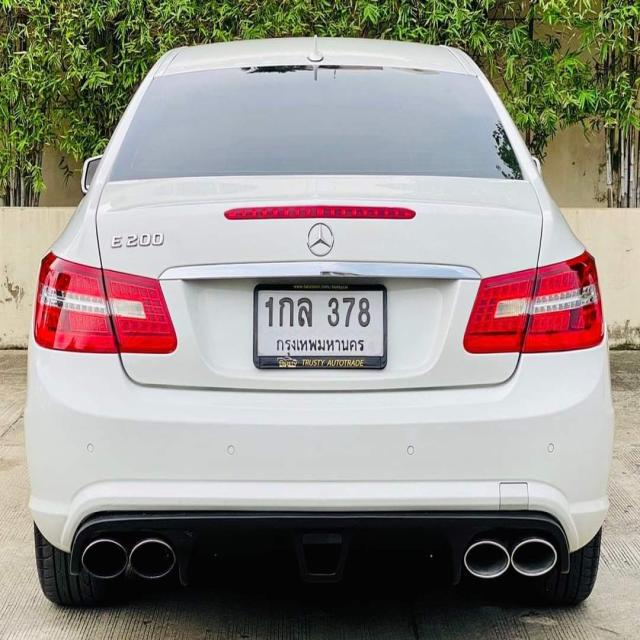license_plate: (249, 276, 392, 377)
